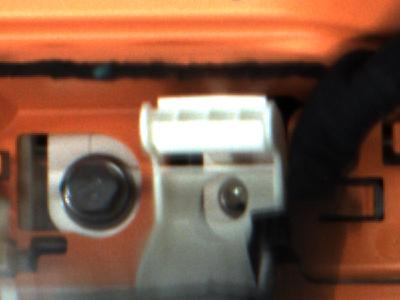nut_b: (56, 155, 137, 234)
